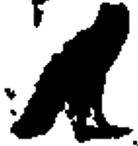Owl: (8, 1, 137, 142)
